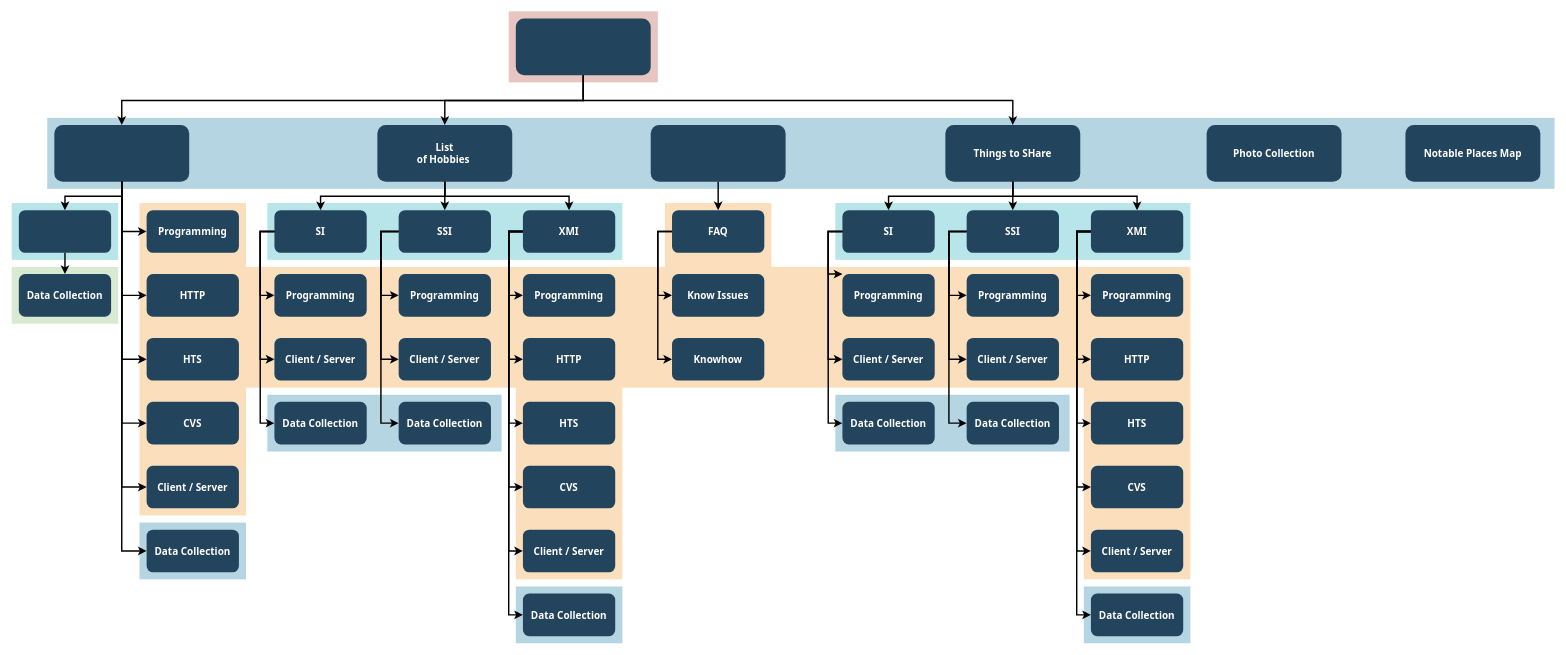
Some shapes in this 1566 by 655 pixel diagram are drawn without their labels. Each missing label, with the centre of its shape:
Contact Me: point 121,153
Home: point 582,46
List of Important Events: point 717,153
Regular Report: point 64,231
